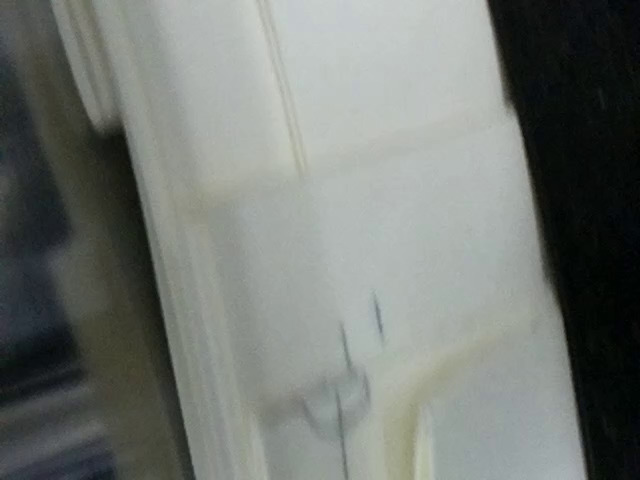not_sure: (257, 320, 379, 443)
